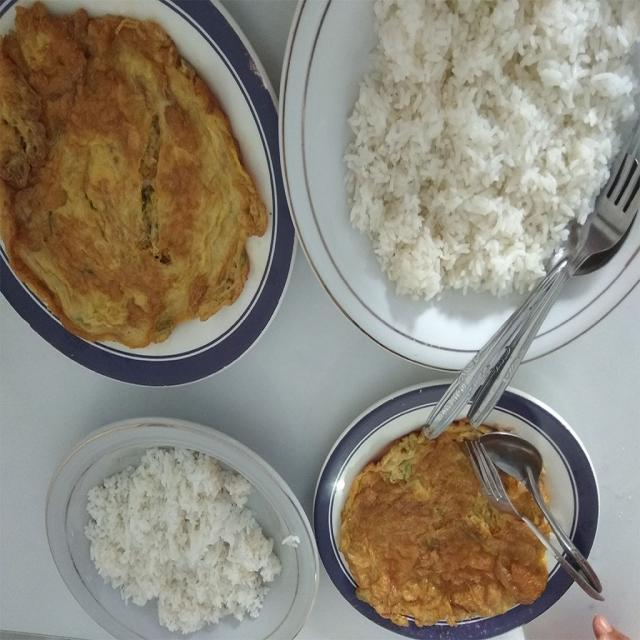nasi_putih: (350, 5, 622, 292), (82, 448, 272, 637)
telur_ayam_dadar: (0, 11, 252, 346), (346, 432, 551, 618)
